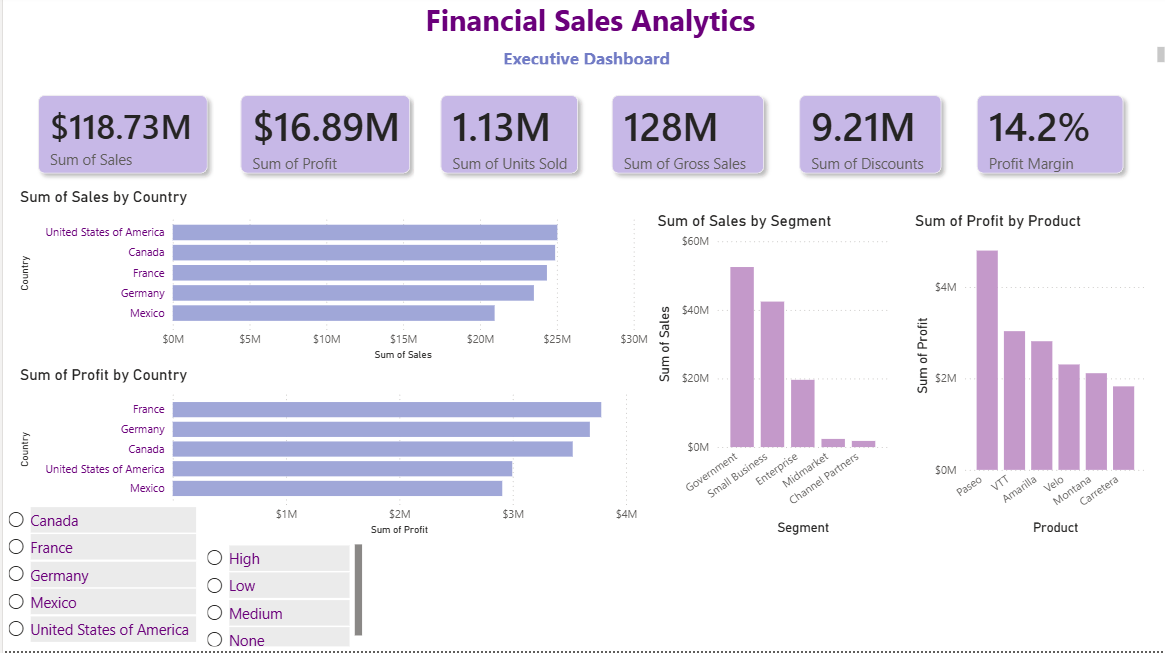

The page's visual inventory and layout, read from the dashboard file:
{"tool":"powerbi","page":{"name":"Executive Dashboard","canvas":[1280,720],"ordinal":0},"visuals":[{"type":"textbox","box":[9.6,0,1270.7,52.1],"z":0},{"type":"textbox","box":[9.6,52.1,1270.7,28.8],"z":1000},{"type":"cardVisual","fields":{"Data":["Sum(Sheet1.Sales)"]},"box":[9.6,81,244.3,144.1],"z":2000},{"type":"cardVisual","fields":{"Data":["Sum(Sheet1.Profit)"]},"box":[231.9,81,244.3,144.1],"z":3000},{"type":"cardVisual","fields":{"Data":["Sum(Sheet1.Units Sold)"]},"box":[451.5,81,209.9,144.1],"z":4000},{"type":"cardVisual","fields":{"Data":["Sum(Sheet1.Gross Sales)"]},"box":[639.5,81,225,144.1],"z":5000},{"type":"cardVisual","fields":{"Data":["Sum(Sheet1.Discounts)"]},"box":[845.3,81,214.1,144.1],"z":6000},{"type":"cardVisual","fields":{"Data":["Sheet1.Profit Margin"]},"box":[1040.1,81,219.6,144.1],"z":7000},{"type":"clusteredBarChart","fields":{"Y":["Sum(Sheet1.Sales)"],"Category":["Sheet1.Country"]},"box":[13.7,211.3,699.8,194.9],"z":8000},{"type":"clusteredBarChart","fields":{"Category":["Sheet1.Country"],"Y":["Sum(Sheet1.Profit)"]},"box":[13.7,406.2,687.5,192.1],"z":9000},{"type":"clusteredColumnChart","fields":{"Y":["Sum(Sheet1.Sales)"],"Category":["Sheet1.Segment"]},"box":[713.6,237.4,263.5,360.9],"z":10000},{"type":"clusteredColumnChart","fields":{"Category":["Sheet1.Product"],"Y":["Sum(Sheet1.Profit)"]},"box":[996.2,237.4,263.5,360.9],"z":11000},{"type":"listSlicer","fields":{"Values":["Sheet1.Country"]},"box":[0,555.7,231.9,164.7],"z":12000},{"type":"listSlicer","fields":{"Values":["Sheet1.Discount Band"]},"box":[218.2,598.3,181.1,122.1],"z":13000}]}

Visuals, with their boxes in screenshot pixels (x1, y1, x2, y2), scaled from the page's 1280x720 canvas onto the 1165x653 screenshot:
textbox: rect(9, 0, 1164, 47)
textbox: rect(9, 47, 1164, 73)
cardVisual - Sum(Sheet1.Sales): rect(9, 73, 231, 204)
cardVisual - Sum(Sheet1.Profit): rect(211, 73, 433, 204)
cardVisual - Sum(Sheet1.Units Sold): rect(411, 73, 602, 204)
cardVisual - Sum(Sheet1.Gross Sales): rect(582, 73, 787, 204)
cardVisual - Sum(Sheet1.Discounts): rect(769, 73, 964, 204)
cardVisual - Sheet1.Profit Margin: rect(947, 73, 1147, 204)
clusteredBarChart - Sum(Sheet1.Sales) x Sheet1.Country: rect(12, 192, 649, 368)
clusteredBarChart - Sheet1.Country x Sum(Sheet1.Profit): rect(12, 368, 638, 543)
clusteredColumnChart - Sum(Sheet1.Sales) x Sheet1.Segment: rect(649, 215, 889, 543)
clusteredColumnChart - Sheet1.Product x Sum(Sheet1.Profit): rect(907, 215, 1147, 543)
listSlicer - Sheet1.Country: rect(0, 504, 211, 652)
listSlicer - Sheet1.Discount Band: rect(199, 543, 363, 652)
